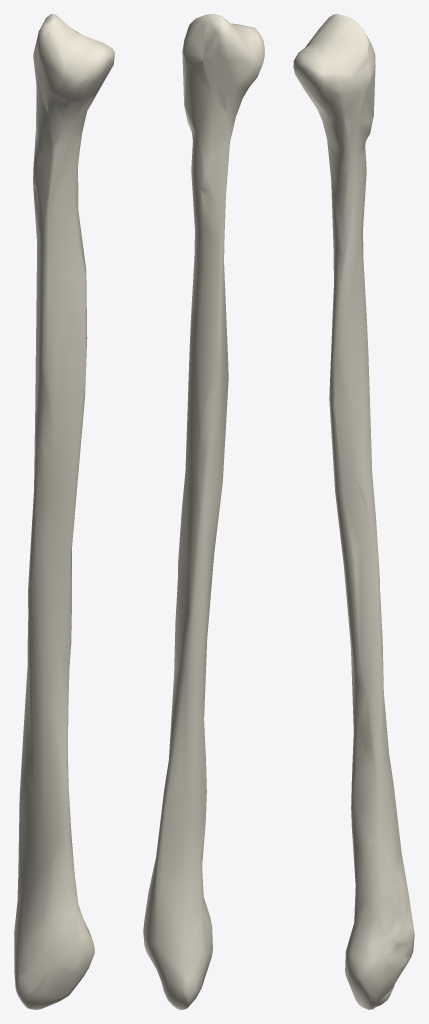
The picture shows the model from 3 angles, left to right: view 1: azimuth 90°, elevation 25°; view 2: azimuth 150°, elevation 25°; view 3: azimuth 330°, elevation 25°; orthographic projection.
Parts seen in each view (by area): view 1: ZA_33bc3ea1caf24a3b; view 2: ZA_33bc3ea1caf24a3b; view 3: ZA_33bc3ea1caf24a3b.
Part boxes in pixels (left/top/right/bottom): ZA_33bc3ea1caf24a3b: left=14, top=14, right=114, bottom=1009; ZA_33bc3ea1caf24a3b: left=143, top=14, right=264, bottom=1009; ZA_33bc3ea1caf24a3b: left=293, top=14, right=414, bottom=1009.
Bounding box in the file's own units: 0.0362 × 0.3625 × 0.0329.
